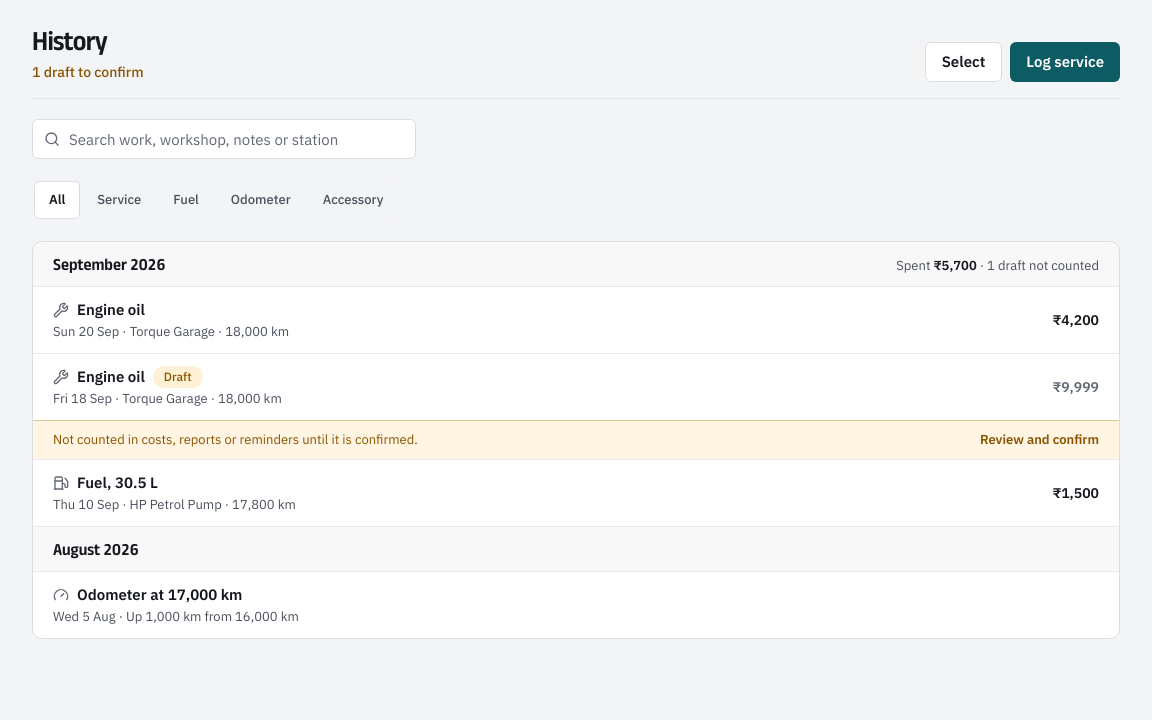
Test: HistoryPage select mode › selects services only, and deletes the selected ones together
The width and height of the screenshot is (1152, 720).
Step 1. Click the button "Select" → (964, 62), box [925,42,1002,82]
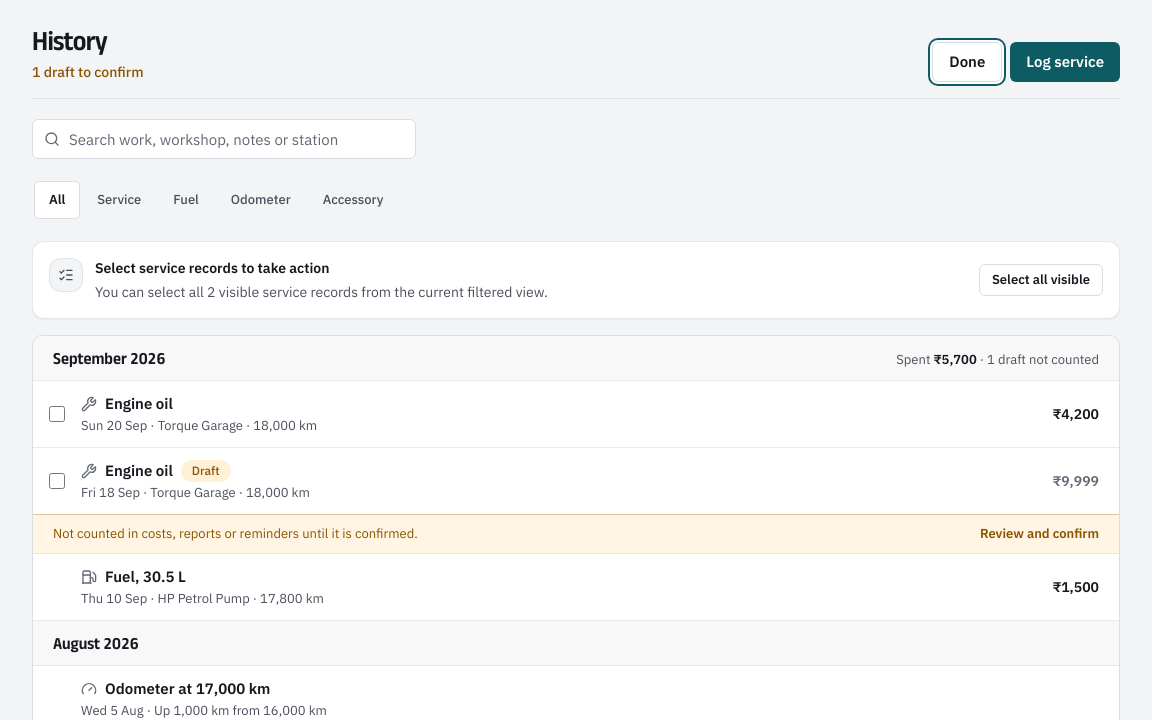
Now the number of checkboxes is 2
Step 2. Click the checkbox named "Select Engine oil, Sun 20 Sep" → (57, 414), box [49,406,65,422]
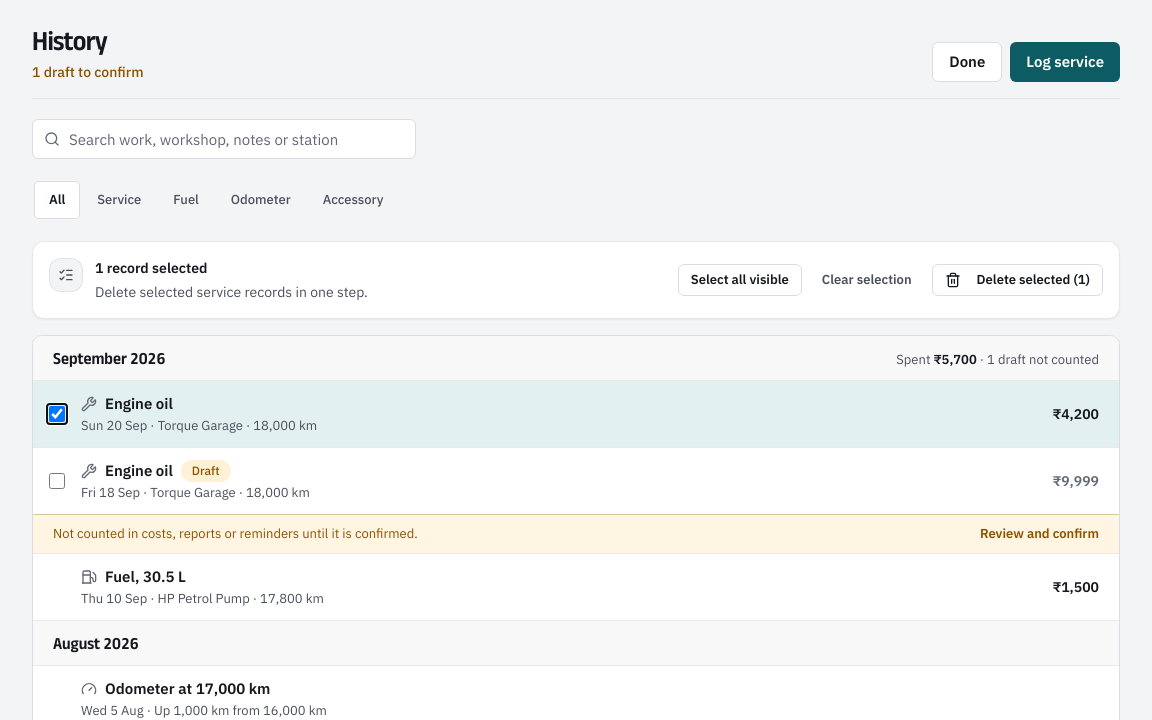
Now the text "1 record selected" is shown, box [95,259,207,277]
Step 3. Click the button "Delete selected (1)" → (1017, 280), box [932,264,1103,296]
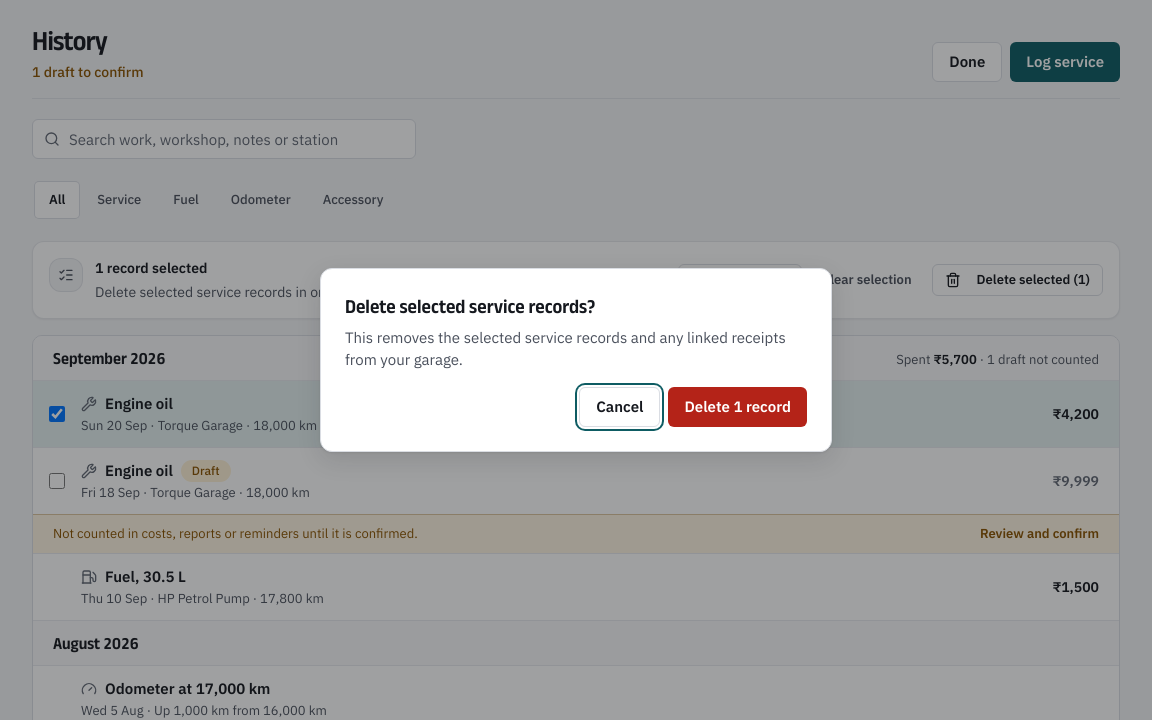
Step 4. Click the button "Delete 1 record" → (738, 407), box [668,387,807,427]
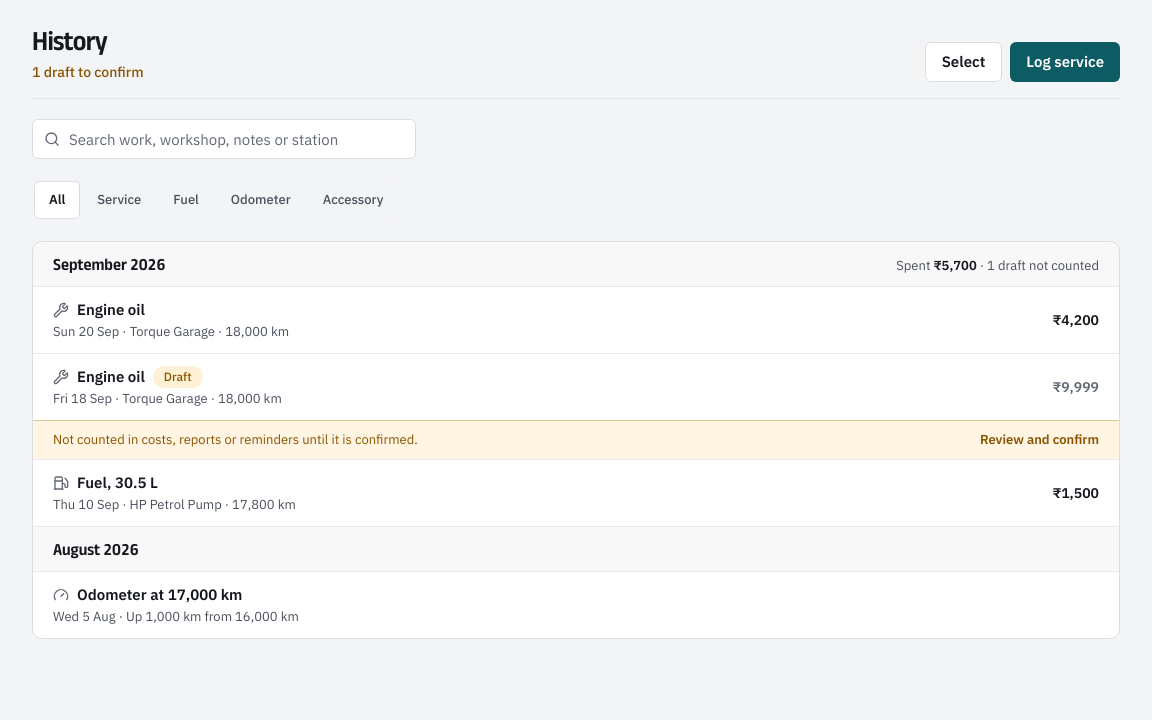
Now no checkboxes are shown
Now the button "Select" is shown, box [925,42,1002,82]
